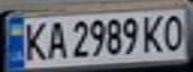2: (66, 17, 90, 59)
8: (103, 16, 124, 56)
9: (121, 15, 145, 55), (87, 16, 109, 57)
A: (42, 18, 69, 61)
K: (18, 18, 51, 62), (139, 11, 169, 54)
O: (157, 11, 190, 52)
